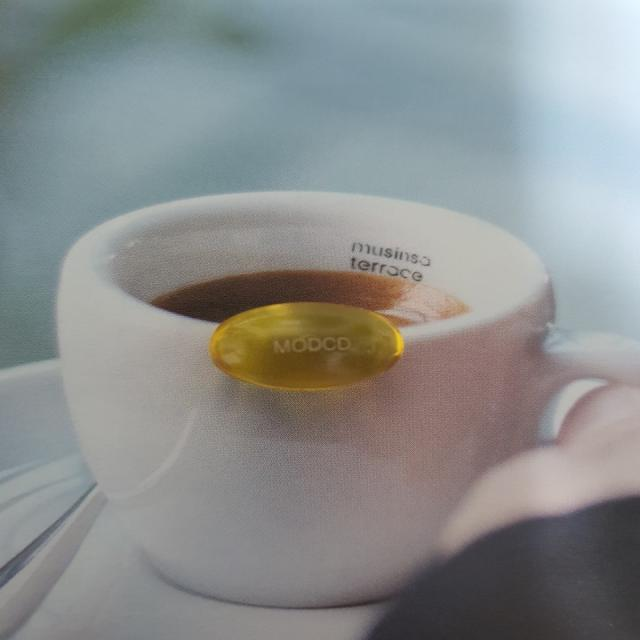pill: (198, 281, 418, 411)
